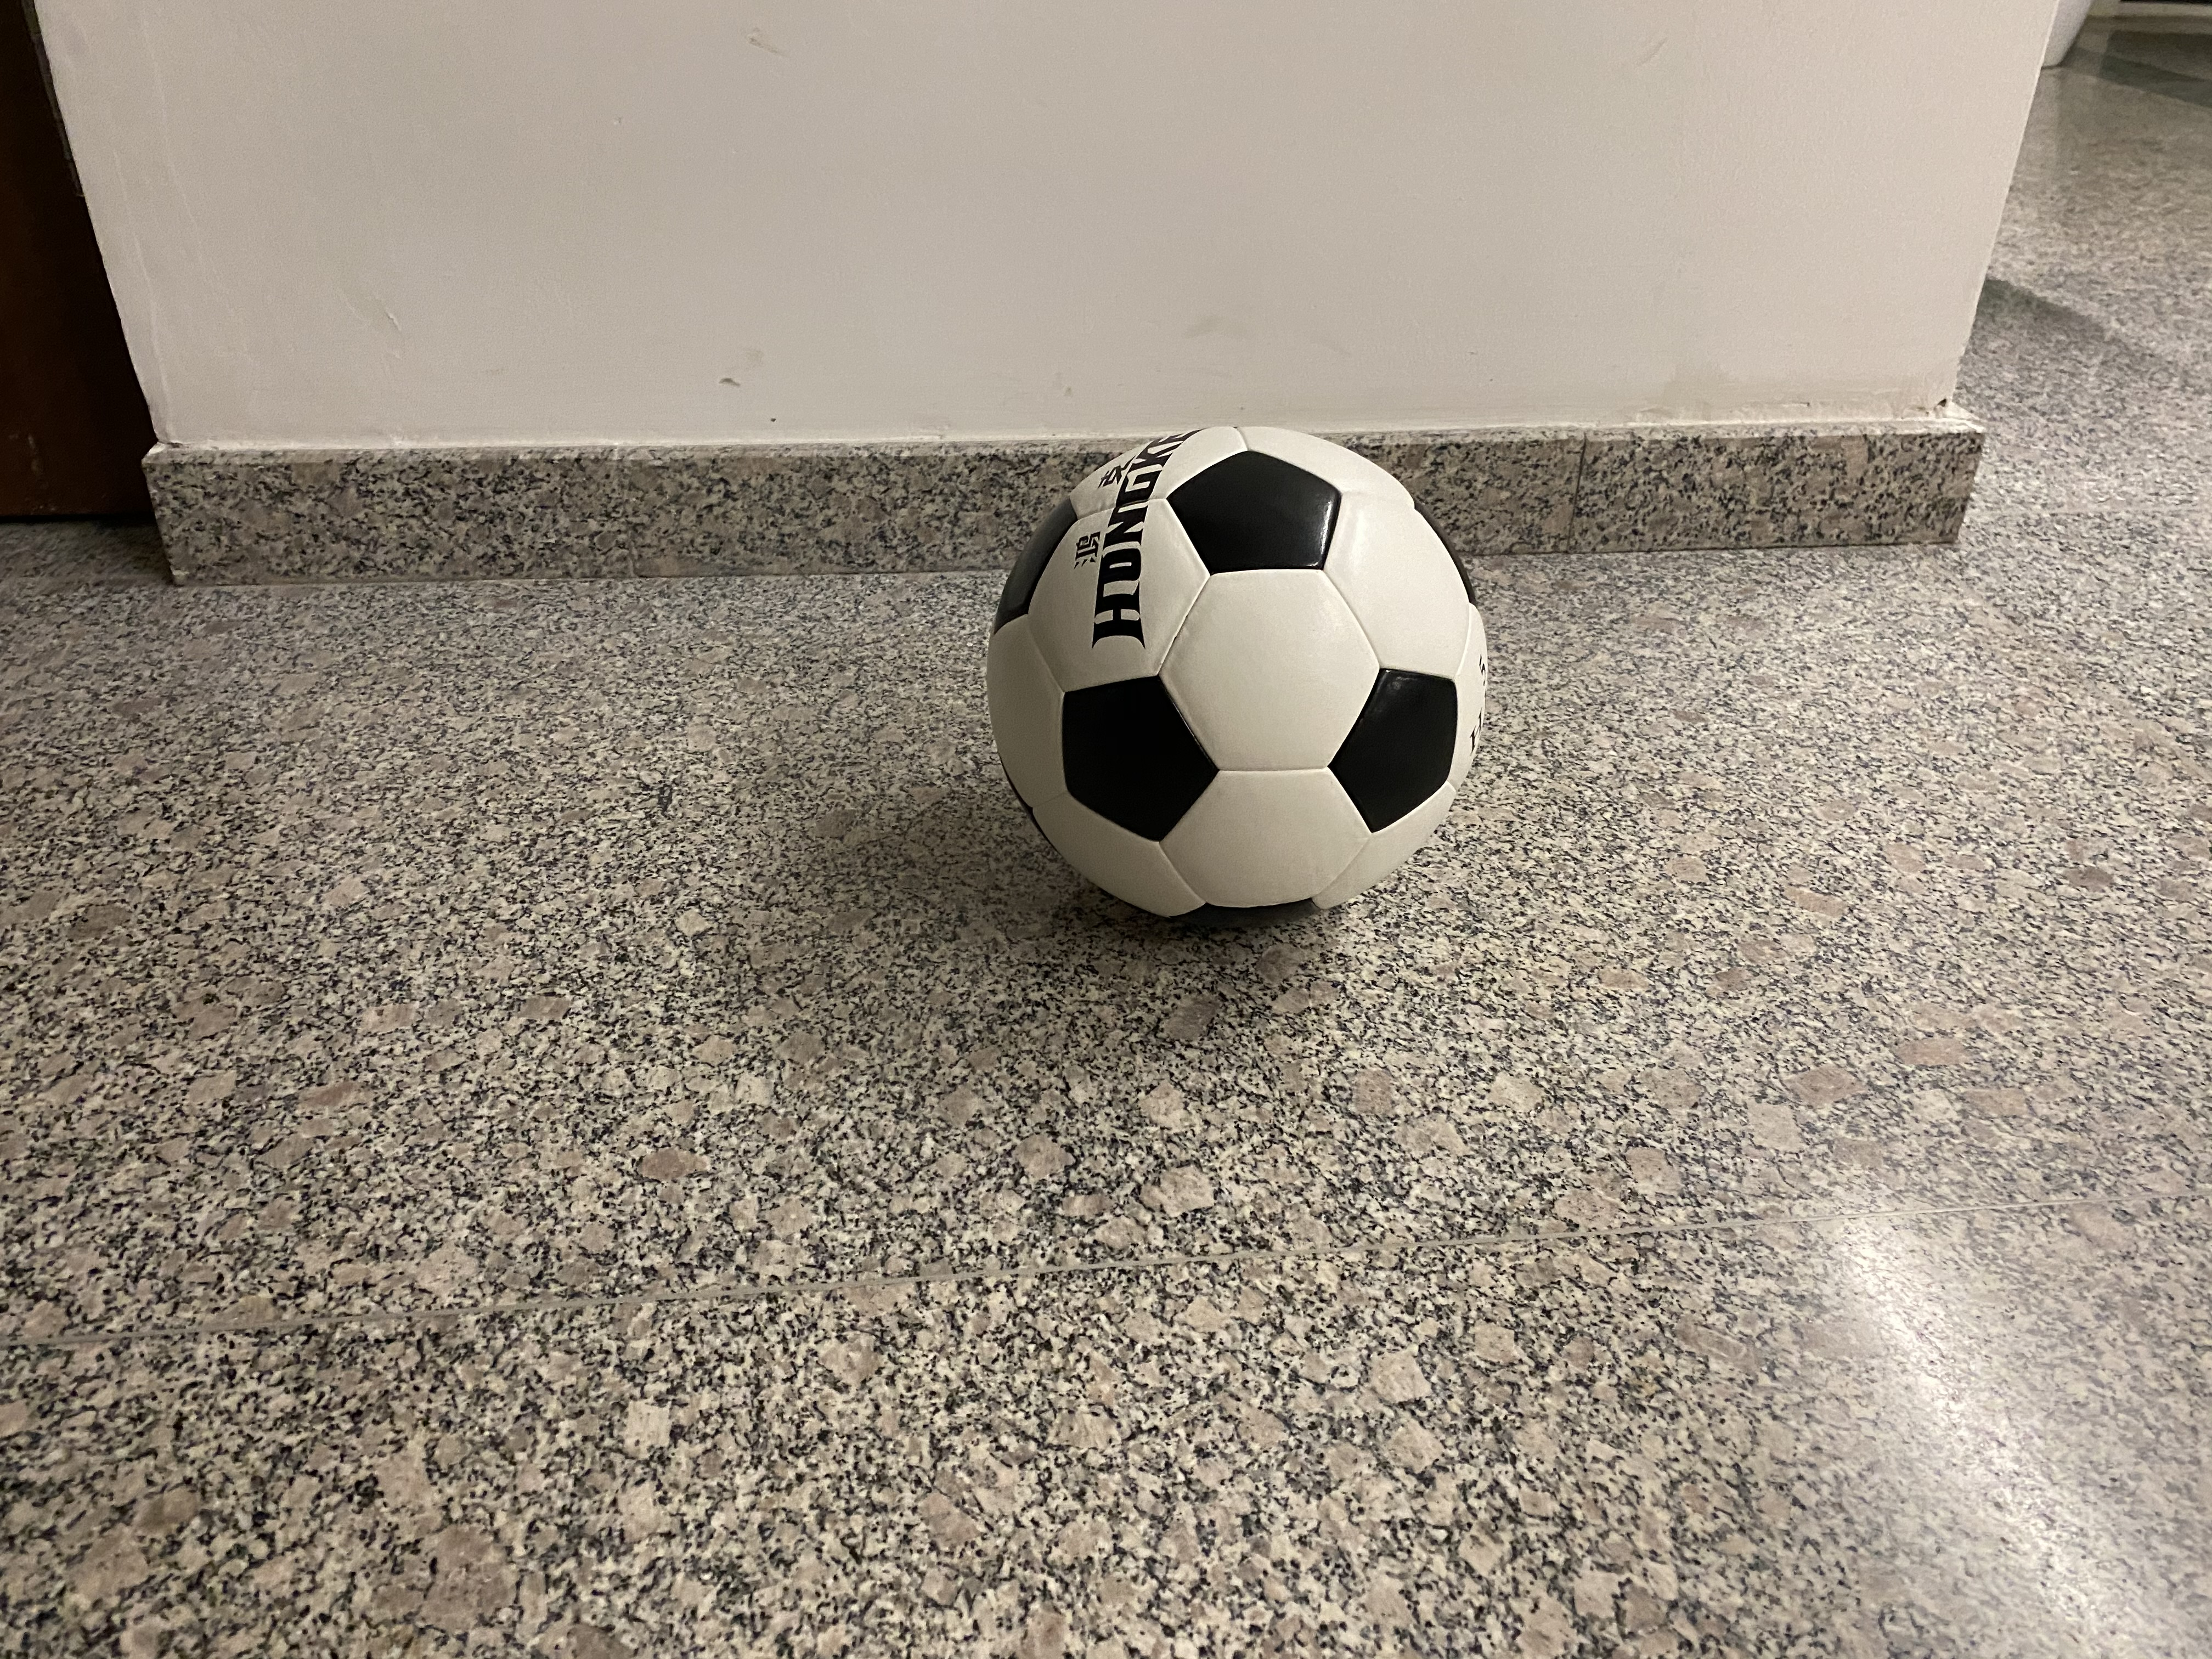football: (977, 429, 1501, 927)
